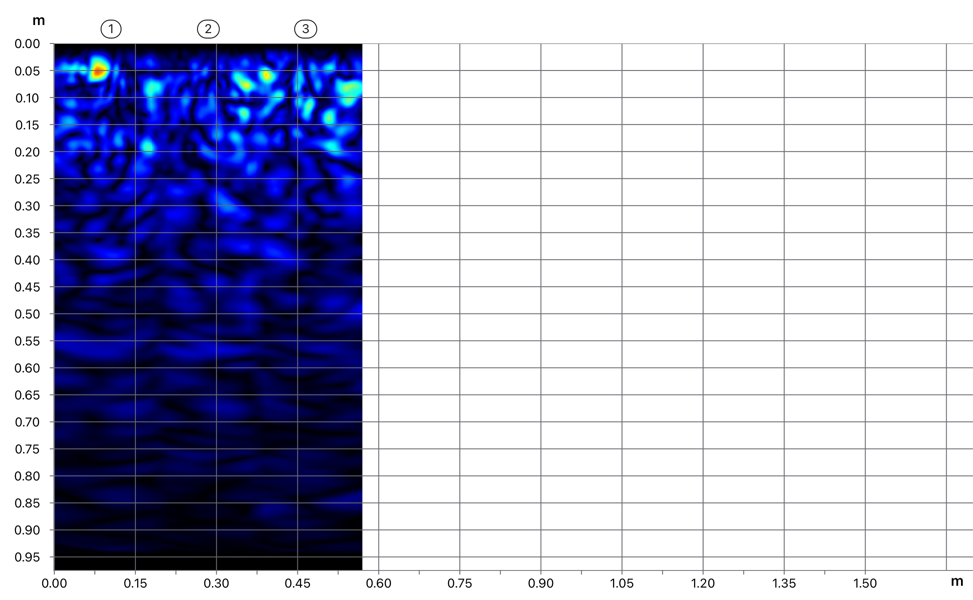crop: (2, 2, 363, 328)
